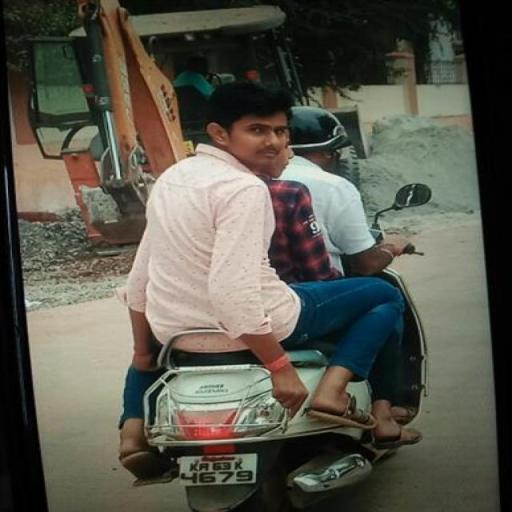tripple riding: (119, 76, 438, 352)
